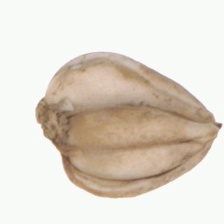L1: (33, 94, 69, 162), (198, 103, 222, 156)
L2: (35, 51, 220, 199)
